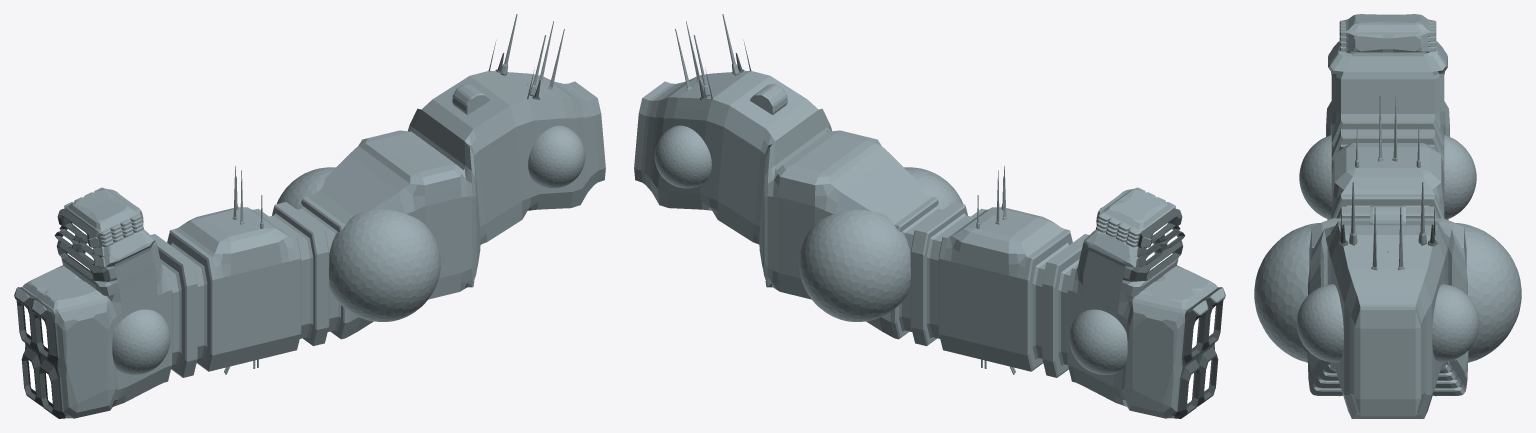
File: Character.fbx
3 views of the same model, side by side, from view 1: azimuth 30°, elevation 25°; view 2: azimuth 150°, elevation 25°; view 3: azimuth 270°, elevation 25° (orthographic). The views are drawn at different scales.
Visible parts, largest first — view 1: Spaceship; view 2: Spaceship; view 3: Spaceship.
Part boxes in pixels (bbox=[...]): Spaceship: bbox=[14, 14, 605, 418]; Spaceship: bbox=[634, 14, 1225, 418]; Spaceship: bbox=[1254, 14, 1521, 418].
Bounding box in the file's own units: 876 × 398 × 294.
